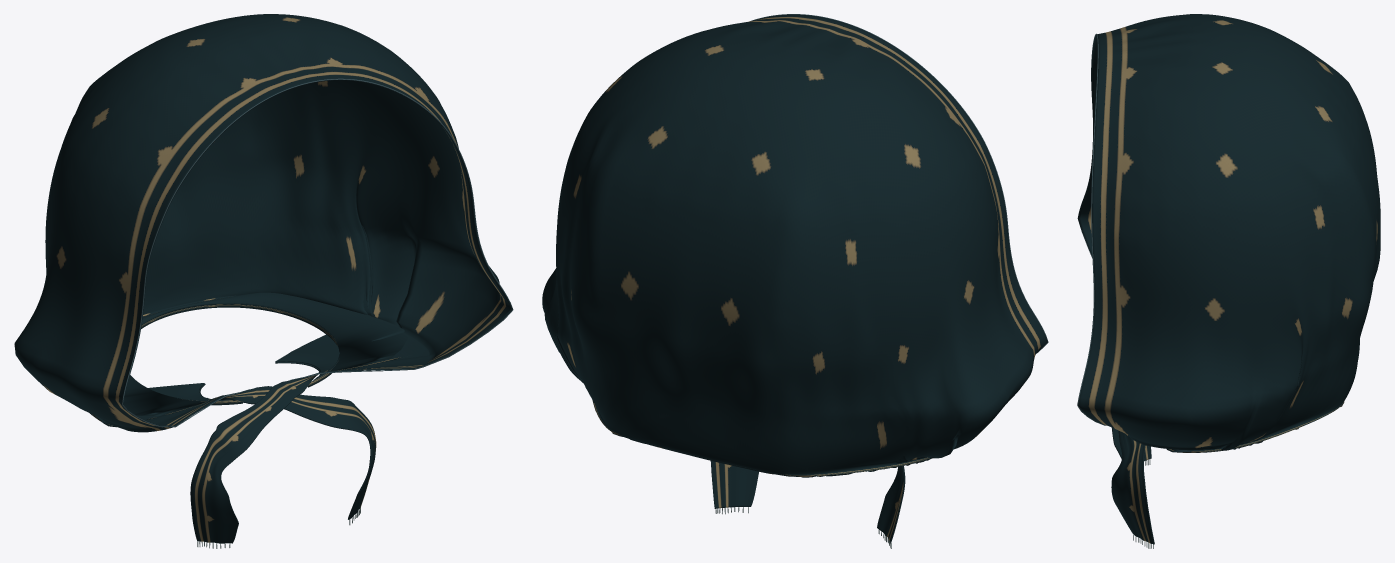
Rendered from Feminine-box-braids-tshirt-pashmina249-headgear.glb.
The picture shows the model from 3 angles, left to right: view 1: azimuth 30°, elevation 25°; view 2: azimuth 150°, elevation 25°; view 3: azimuth 270°, elevation 25°; orthographic projection. The views are drawn at different scales.
Visible parts, largest first — view 1: 226 headgear / Headwear / continuous woven pashmina239, 226 headgear / Headwear / face edge239; view 2: 226 headgear / Headwear / continuous woven pashmina239, 226 headgear / Headwear / face edge239; view 3: 226 headgear / Headwear / continuous woven pashmina239, 226 headgear / Headwear / face edge239.
Part boxes in pixels (x1,y1,x2,y2): 226 headgear / Headwear / continuous woven pashmina239: (14,14,512,543); 226 headgear / Headwear / face edge239: (122,78,513,427); 226 headgear / Headwear / continuous woven pashmina239: (542,14,1047,542); 226 headgear / Headwear / face edge239: (749,14,1048,353); 226 headgear / Headwear / continuous woven pashmina239: (1078,14,1380,544); 226 headgear / Headwear / face edge239: (1077,33,1106,425).
Size of the model in its own units: 1.33 by 1.38 by 0.8067.
3 materials, 1 textured.
